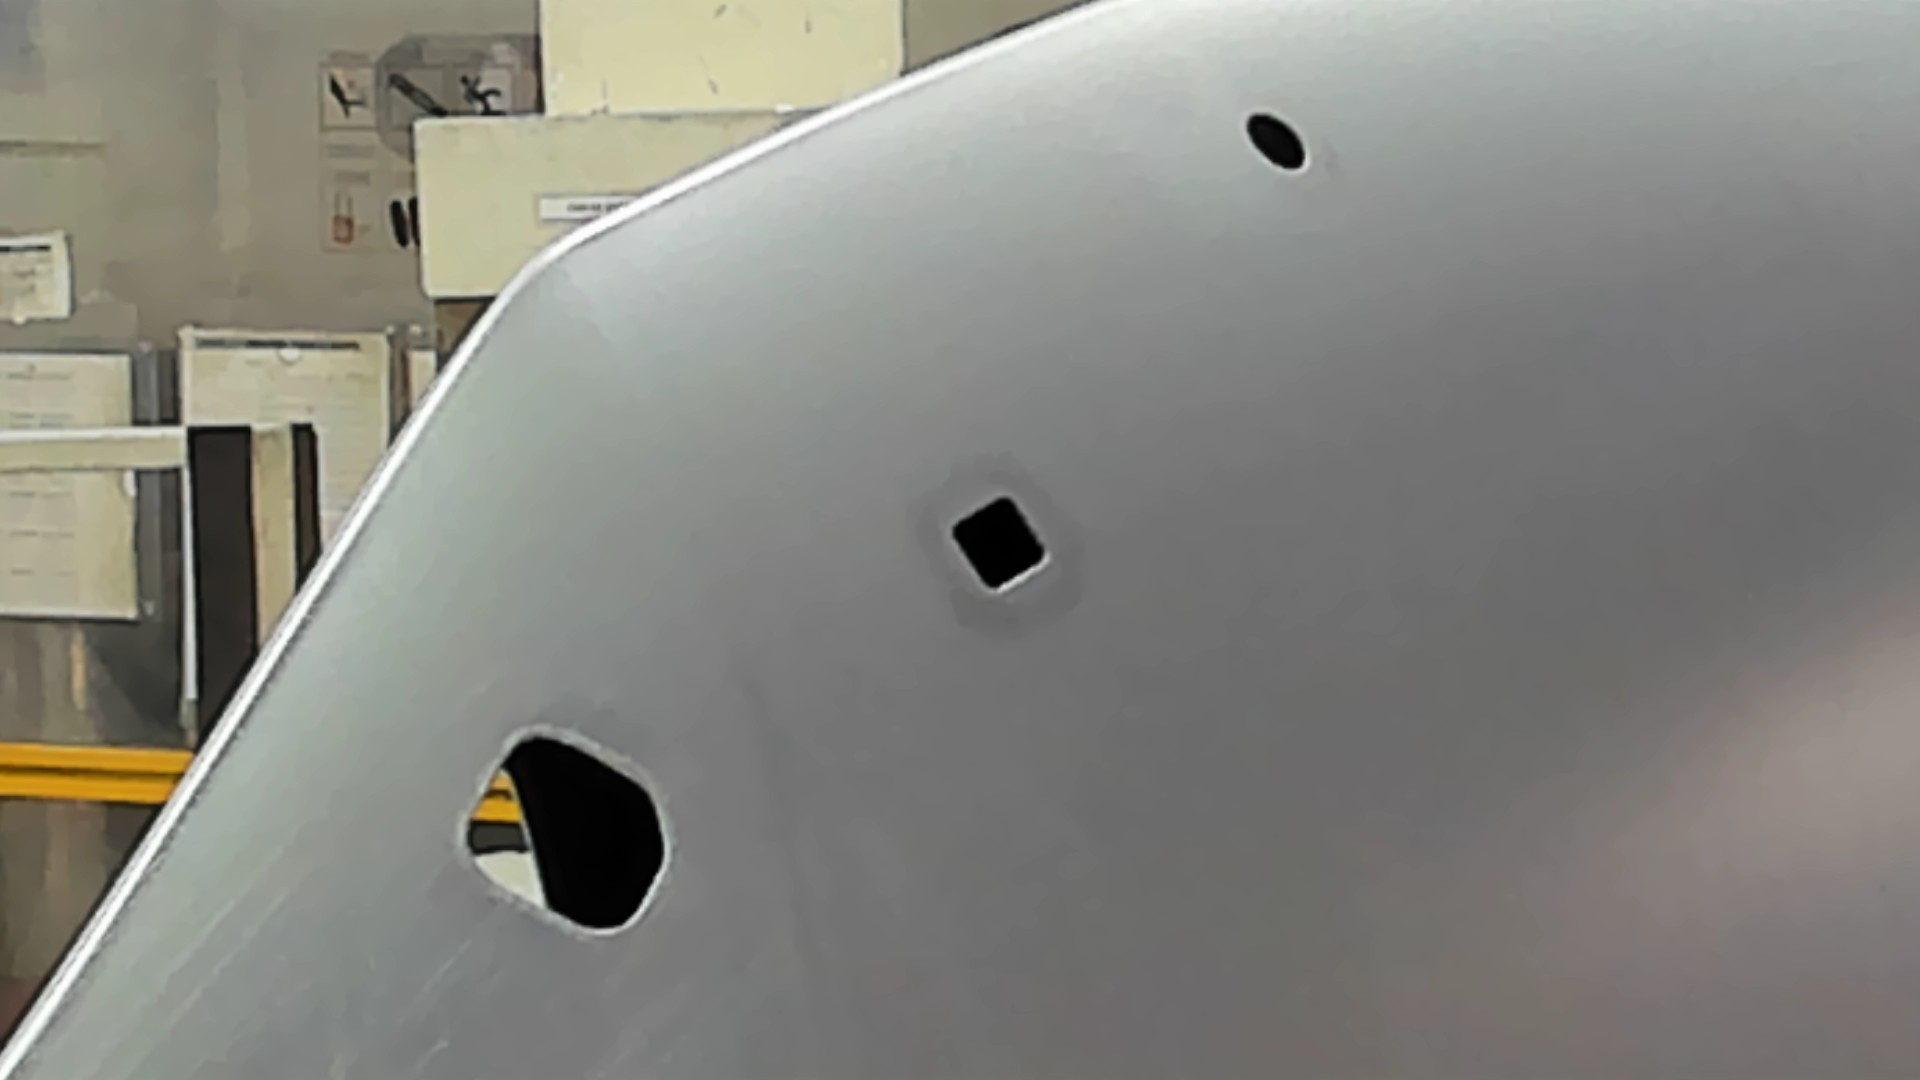chico: (1244, 105, 1309, 177)
grande: (450, 719, 674, 945)
mediano: (942, 491, 1060, 601)
